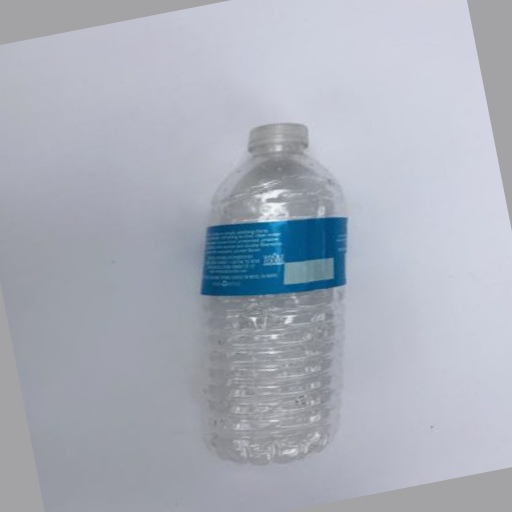Plastic_0: (198, 121, 348, 468)
